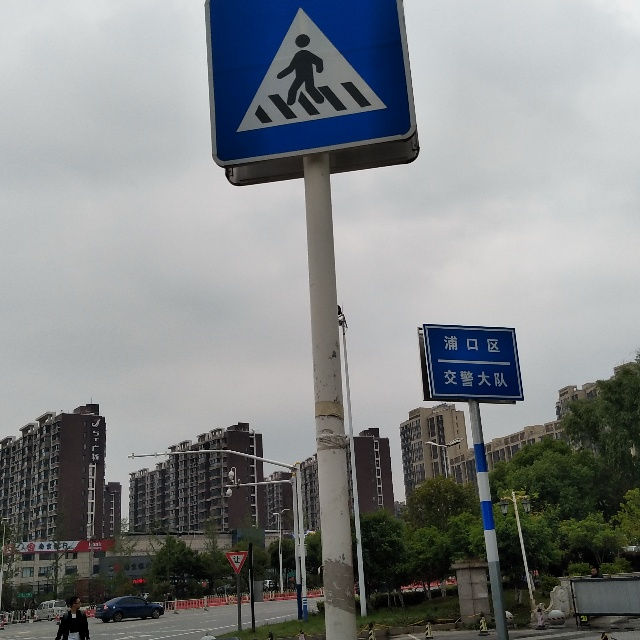crosswalk: (220, 5, 402, 135)
